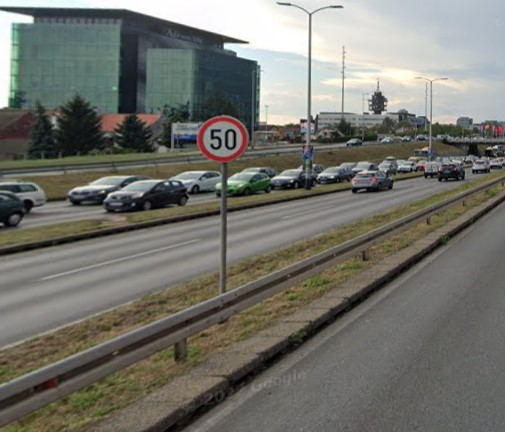Ograničenje brzine 50: (197, 115, 249, 162)
